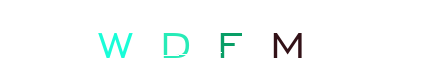D: (175, 0, 255, 80)
F: (202, 0, 282, 80)
M: (247, 0, 327, 80)
W: (101, 0, 181, 80)
